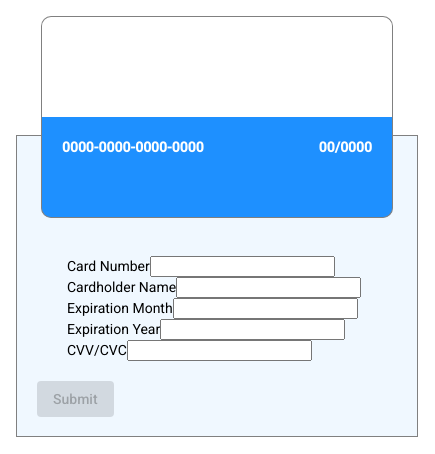
Test: CVV/CVC input › TC01 - when input only one number show error massage
The width and height of the screenshot is (435, 454).
Type "5" into the number field with id "cvv-input". click: (220,351)
box: top-left (127, 340), bottom-right (312, 361)
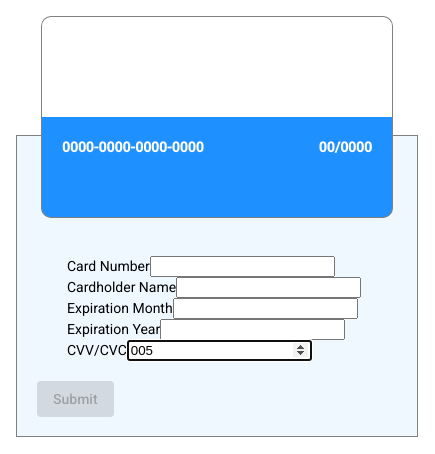
Now the number field with id "cvv-input" holds "005", box top-left (127, 340), bottom-right (312, 361)
